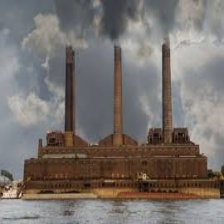smoke: (58, 1, 179, 44)
